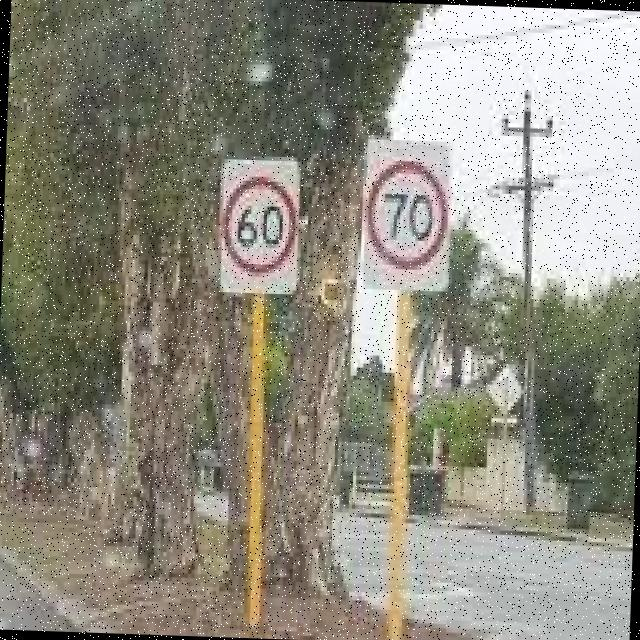speed_limit_60: (215, 159, 298, 284)
speed_limit_70: (359, 148, 456, 278)
